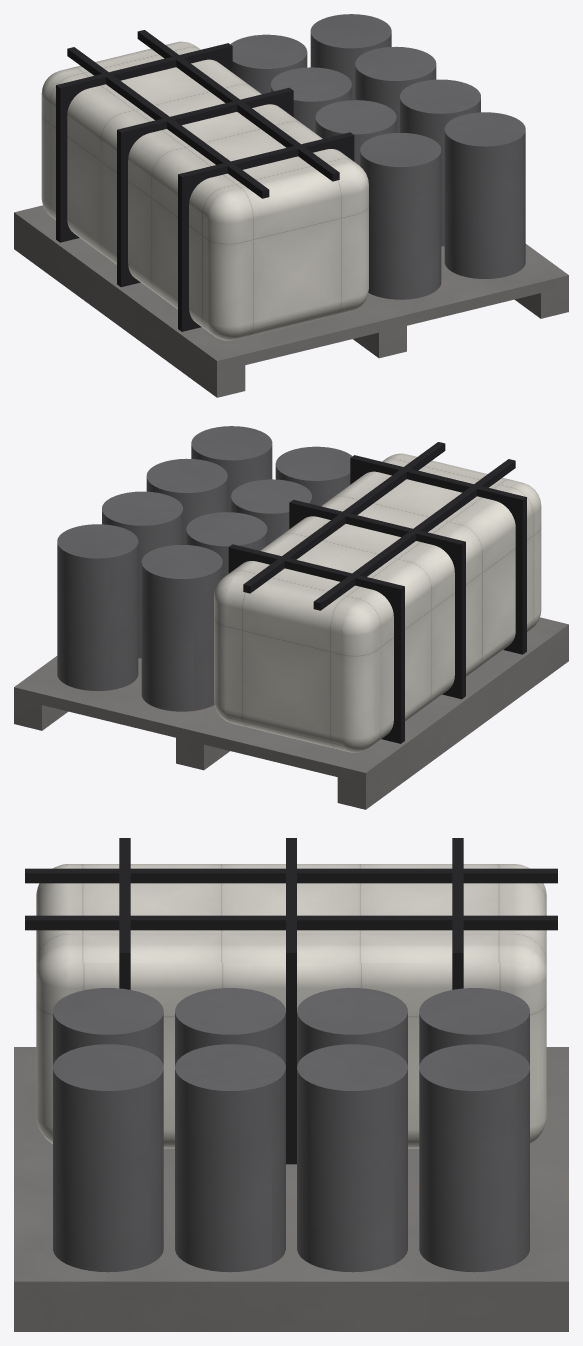
The model's file is power13_consumables_pallet.glb.
The picture shows the model from 3 angles, top to bottom: view 1: azimuth 30°, elevation 25°; view 2: azimuth 150°, elevation 25°; view 3: azimuth 270°, elevation 25°; orthographic projection. The views are drawn at different scales.
Parts seen in each view (by area): view 1: cargo_bags, food_canisters, pallet_deck, restraint_net; view 2: cargo_bags, food_canisters, pallet_deck, restraint_net; view 3: food_canisters, cargo_bags, pallet_deck, restraint_net.
Part boxes in pixels (x1,y1,x2,y2): cargo_bags: (41,41,368,340); food_canisters: (230,14,525,299); pallet_deck: (14,205,568,397); restraint_net: (56,30,354,331); cargo_bags: (214,453,541,752); food_canisters: (57,426,352,711); pallet_deck: (14,617,568,809); restraint_net: (228,442,526,743); food_canisters: (53,988,529,1272); cargo_bags: (36,864,546,1148); pallet_deck: (14,1047,568,1331); restraint_net: (25,838,557,1164).
Bounding box in the file's own units: 1 × 0.52 × 1.
4 materials, 3 textured.
